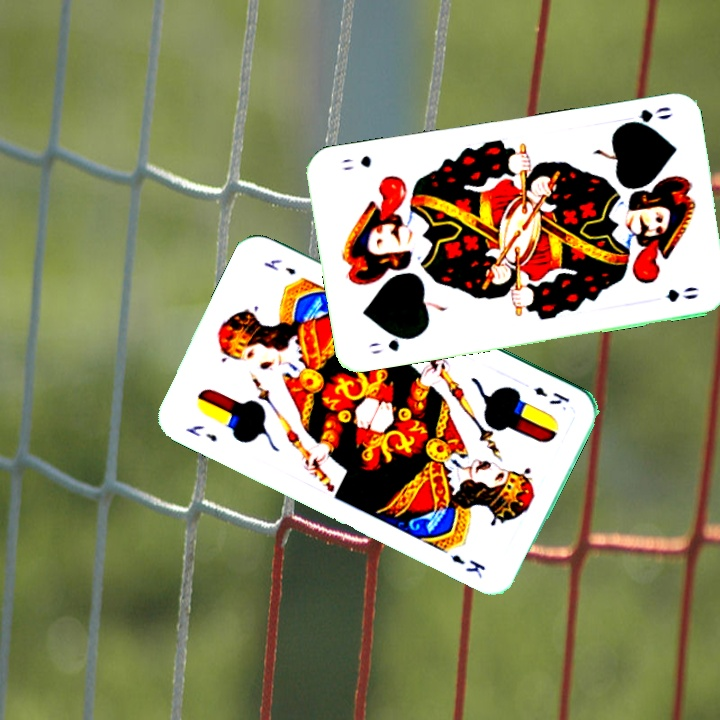EK: (530, 382, 573, 408), (181, 421, 220, 445)
GO: (617, 102, 675, 129), (365, 331, 418, 357)
